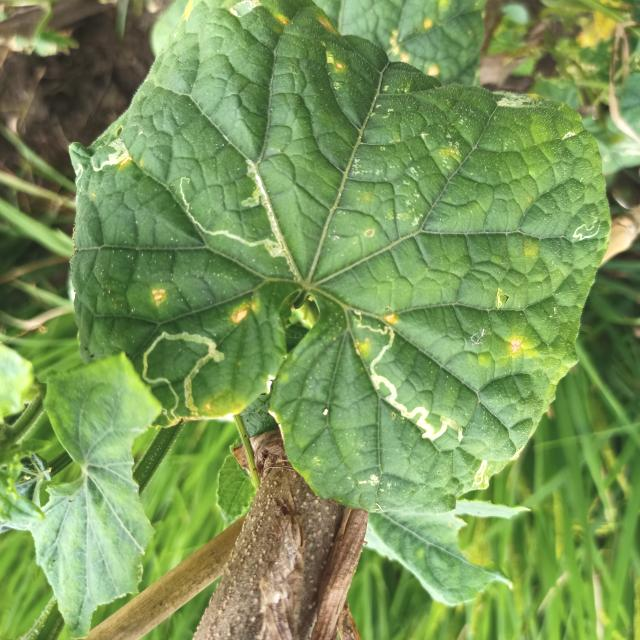disease_cucumber: (231, 299, 260, 324), (324, 46, 344, 73), (150, 286, 168, 306), (508, 334, 524, 356), (356, 338, 372, 353), (384, 311, 396, 325)
